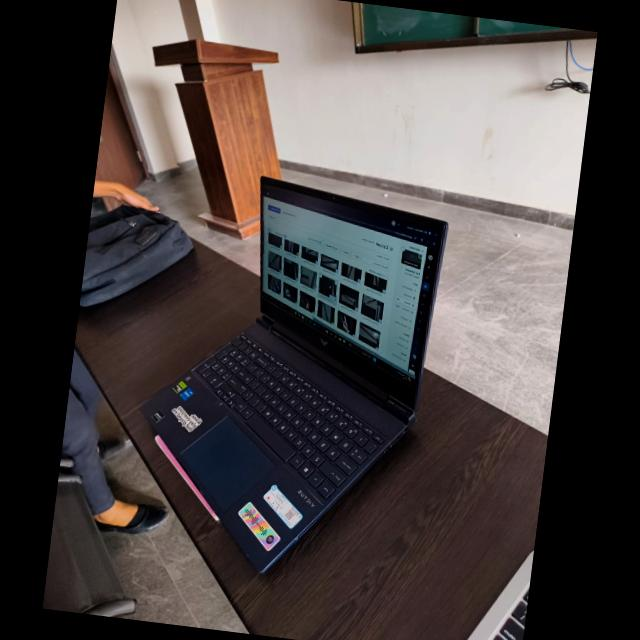laptop: (124, 165, 472, 594)
